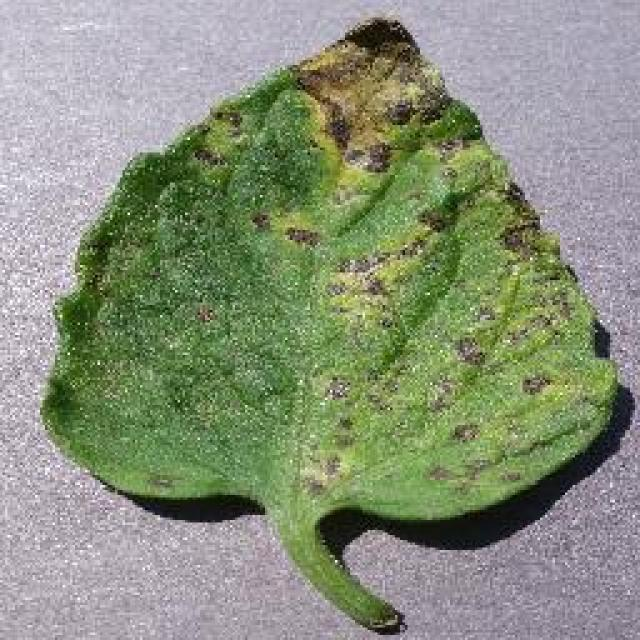Tomato___Septoria_leaf_spot: (40, 18, 620, 630)
